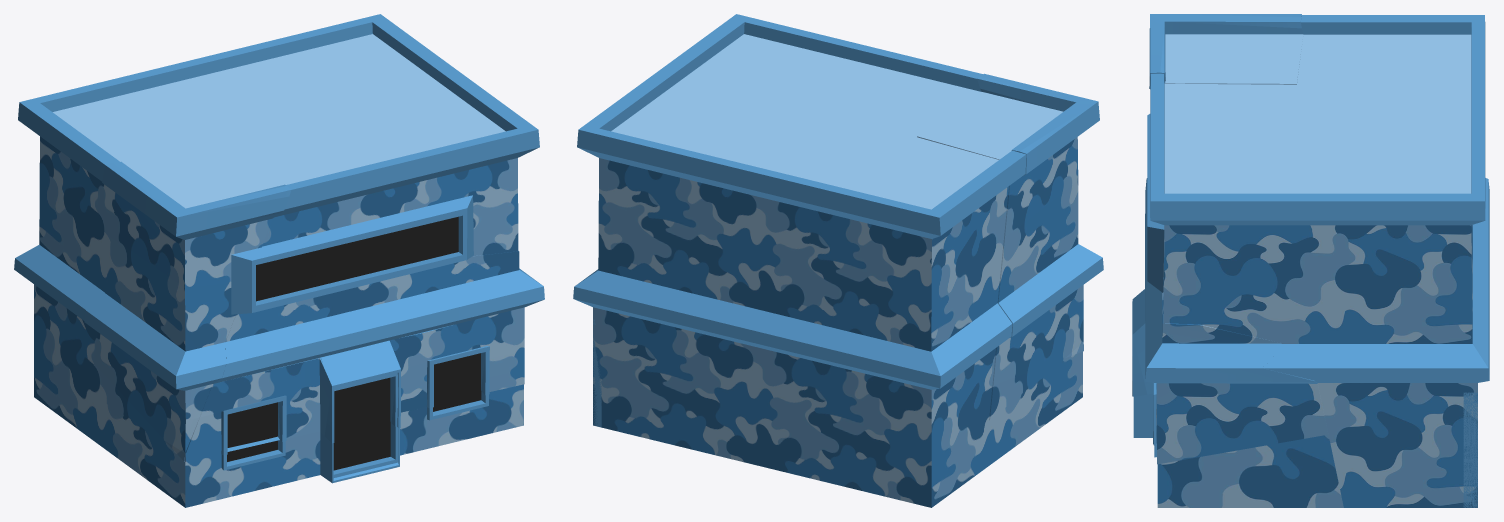
The model's file is Base 3 Cut.fbx.
3 views of the same model, side by side, from view 1: azimuth 30°, elevation 25°; view 2: azimuth 150°, elevation 25°; view 3: azimuth 270°, elevation 25° (orthographic). The views are drawn at different scales.
Visible parts, largest first — view 1: Cut_1, Cut_6, Cut_11, Cut_12, Cut_5, Cut_3, Cut_2, Cut_7, Cut_8, Cut_9, Cut_4; view 2: Cut_2, Cut_11, Cut_6, Cut_5, Cut_12, Cut_7, Cut_3, Cut_10; view 3: Cut_5, Cut_10, Cut_11, Cut_7, Cut_1, Cut_4, Cut_6, Cut_12, Cut_2, Cut_8, Cut_3.
Part boxes in pixels (box(x1,y1,x2,y2)): Cut_1: box(185, 251, 544, 461); Cut_6: box(84, 151, 291, 461); Cut_11: box(18, 56, 346, 236); Cut_12: box(221, 124, 518, 255); Cut_5: box(208, 14, 478, 124); Cut_3: box(86, 394, 399, 507); Cut_2: box(14, 187, 110, 435); Cut_7: box(347, 86, 539, 243); Cut_8: box(315, 195, 473, 297); Cut_9: box(231, 228, 342, 314); Cut_4: box(400, 384, 523, 455); Cut_2: box(593, 238, 1012, 507); Cut_11: box(650, 104, 1026, 293); Cut_6: box(917, 73, 1103, 420); Cut_5: box(577, 58, 797, 263); Cut_12: box(798, 41, 982, 136); Cut_7: box(677, 14, 847, 104); Cut_3: box(984, 351, 1082, 468); Cut_10: box(573, 257, 649, 427); Cut_5: box(1277, 112, 1485, 330); Cut_10: box(1199, 304, 1489, 507); Cut_11: box(1288, 15, 1485, 263); Cut_7: box(1150, 142, 1306, 326); Cut_1: box(1132, 203, 1328, 464); Cut_4: box(1154, 434, 1343, 507); Cut_6: box(1145, 14, 1303, 209); Cut_12: box(1150, 73, 1296, 324); Cut_2: box(1463, 178, 1489, 507); Cut_8: box(1147, 162, 1164, 292); Cut_3: box(1133, 393, 1152, 437).
Bounding box in the file's own units: 458 × 351 × 363.
Materials: 1 (1 with a texture image).
